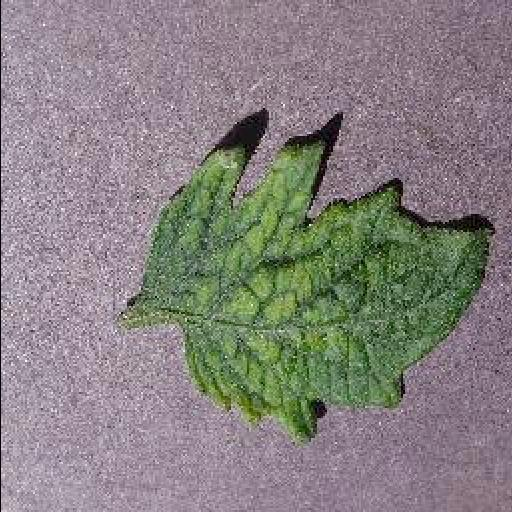disease_tomato: (143, 139, 499, 441)
